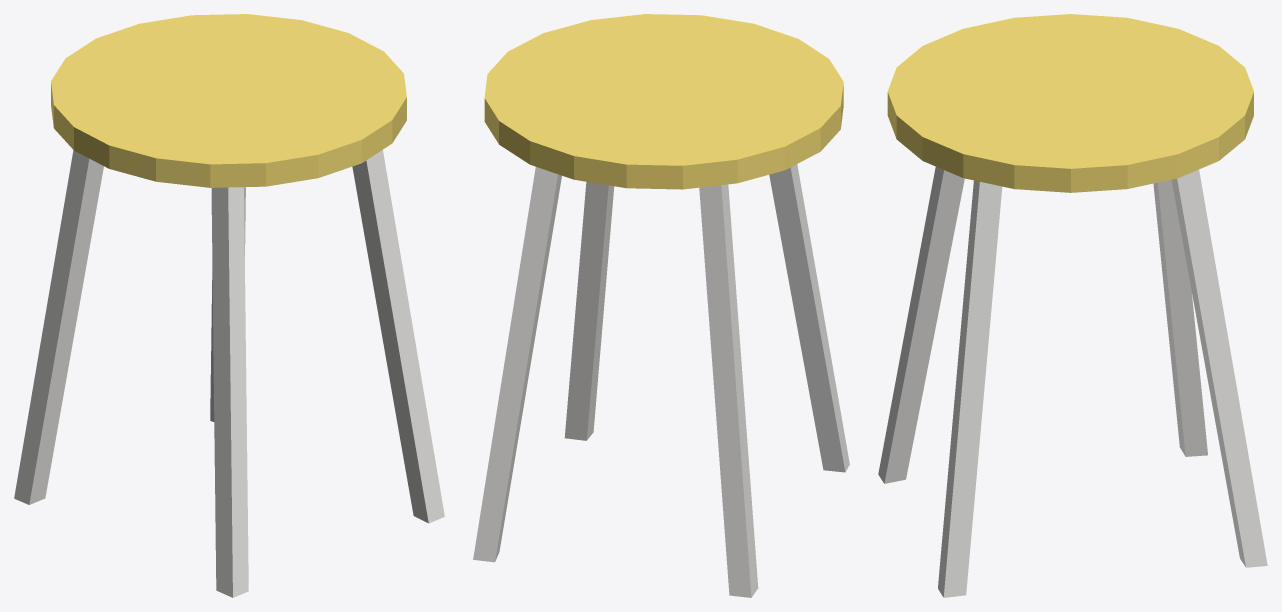
Rendered from Stool_4.fbx.
3 renders of one model, left to right at view 1: azimuth 30°, elevation 25°; view 2: azimuth 150°, elevation 25°; view 3: azimuth 270°, elevation 25°, orthographic. The views are drawn at different scales.
Parts seen in each view (by area): view 1: Stool_4; view 2: Stool_4; view 3: Stool_4.
Part boxes in pixels (<box>): Stool_4: <box>14,14,444,597</box>; Stool_4: <box>473,14,849,597</box>; Stool_4: <box>878,14,1267,597</box>.
Bounding box in the file's own units: 70.68 × 75.13 × 91.46.
